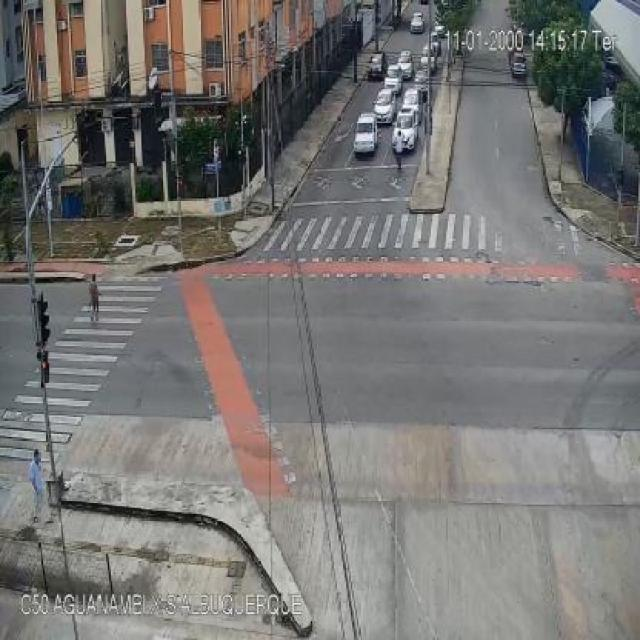Car: (352, 115, 378, 158), (392, 113, 418, 153), (372, 88, 398, 123), (401, 88, 423, 121), (384, 66, 403, 94), (368, 52, 386, 80), (510, 52, 528, 78), (398, 50, 415, 74), (420, 54, 436, 75), (410, 12, 424, 34), (603, 53, 619, 71), (433, 23, 446, 40)
